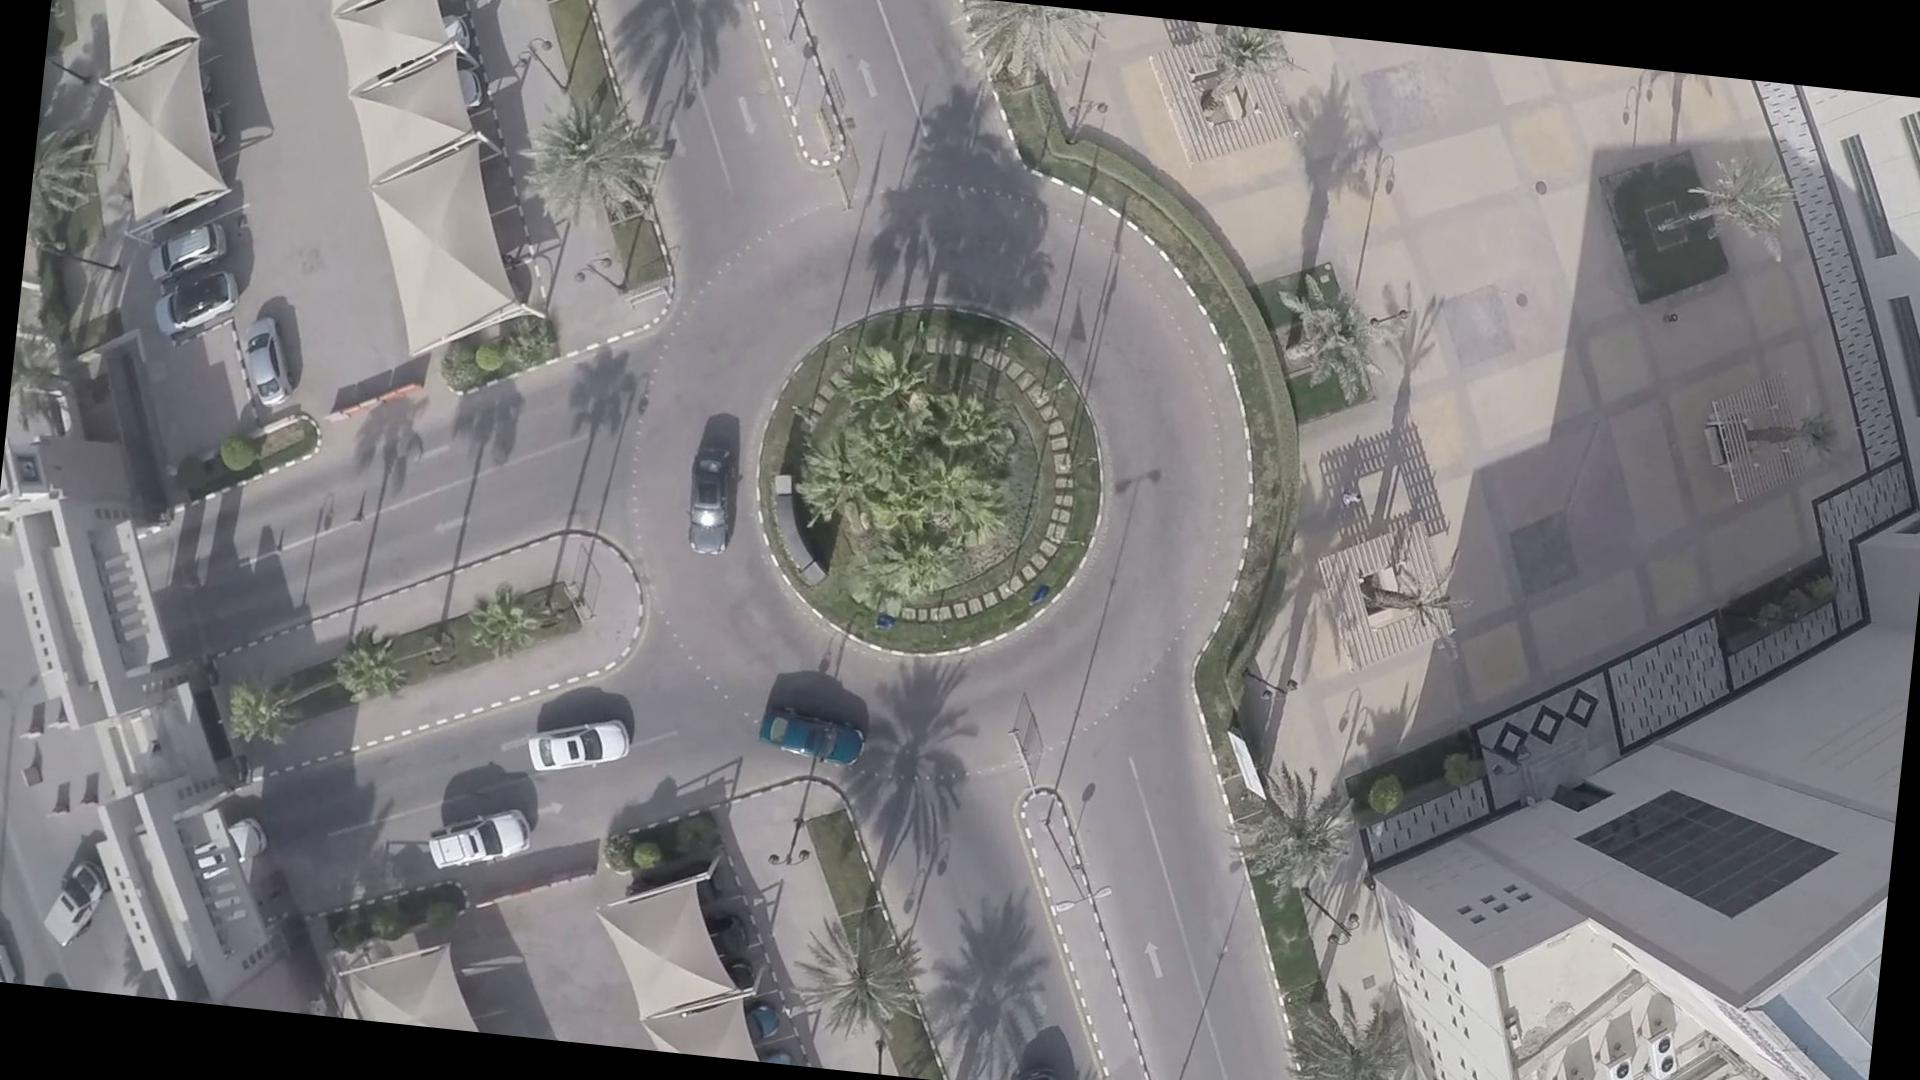vehicle: (665, 429, 760, 572), (727, 693, 875, 764), (406, 807, 546, 873), (510, 713, 648, 775), (44, 844, 105, 968), (126, 220, 230, 278)
